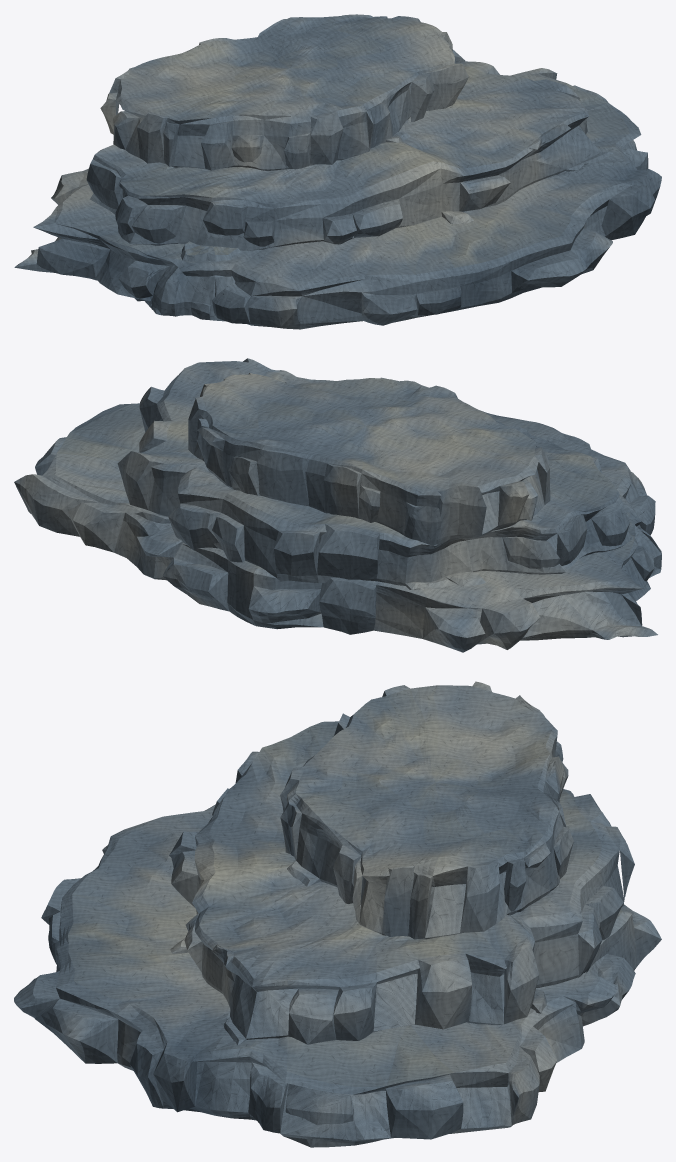
3 views of the same model, one above another, from view 1: azimuth 30°, elevation 25°; view 2: azimuth 150°, elevation 25°; view 3: azimuth 270°, elevation 25° (orthographic). The views are drawn at different scales.
Visible parts, largest first — view 1: F03_stone; view 2: F03_stone; view 3: F03_stone.
Boxes of the visible parts, x1,y1,x2,y2 form: F03_stone: [14, 14, 661, 329]; F03_stone: [14, 358, 661, 652]; F03_stone: [14, 681, 661, 1147].
Bounding box in the file's own units: 34.19 × 8.24 × 25.8.
1 material, 1 textured.
